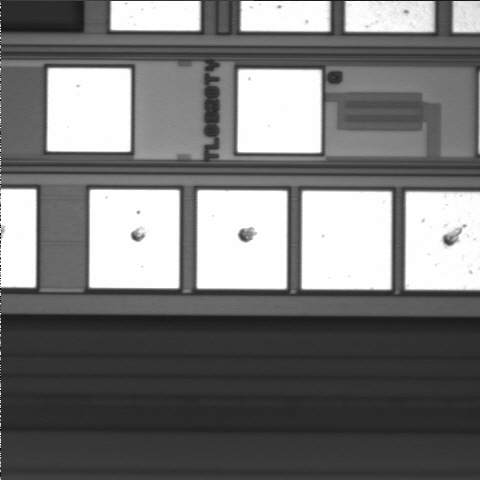pad: (197, 190, 287, 289), (89, 190, 179, 288), (302, 191, 391, 289), (47, 68, 131, 152), (238, 69, 321, 153)
